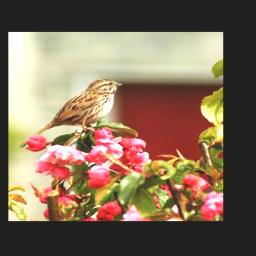Sparrow: (15, 76, 124, 151)
